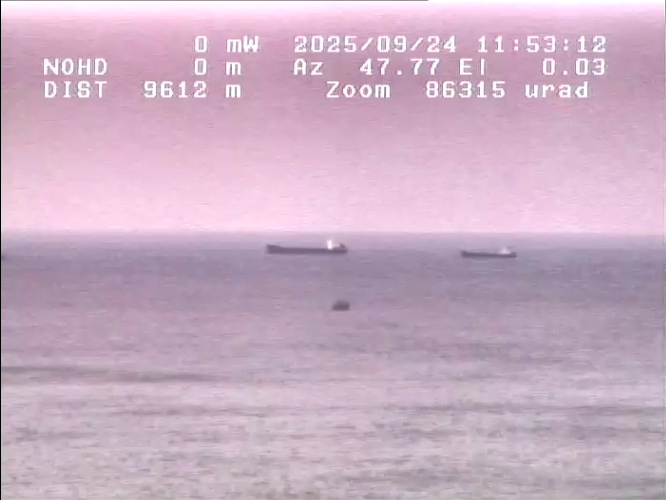TANKER: (229, 220, 364, 257), (449, 239, 523, 262)
TUGS: (326, 294, 362, 313)
